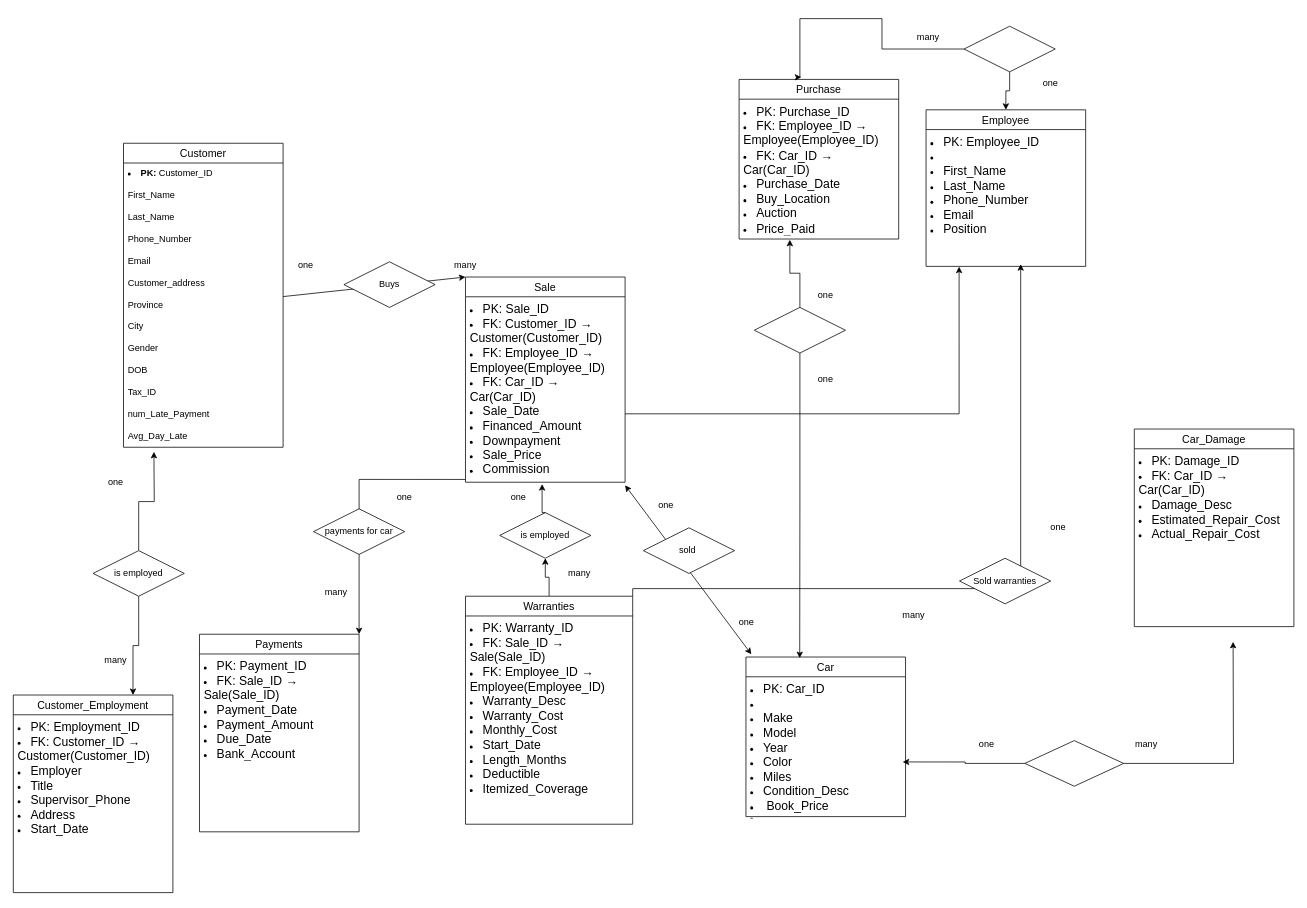
Some shapes in this 1307 by 908 pixel diagram are drawn without their labels. Here are the shapes that lost their labels. From the top down, the centre of each, then its label:
the point at 1009,48: purchased car
the point at 800,330: car purchase
the point at 1074,763: car is damaged
